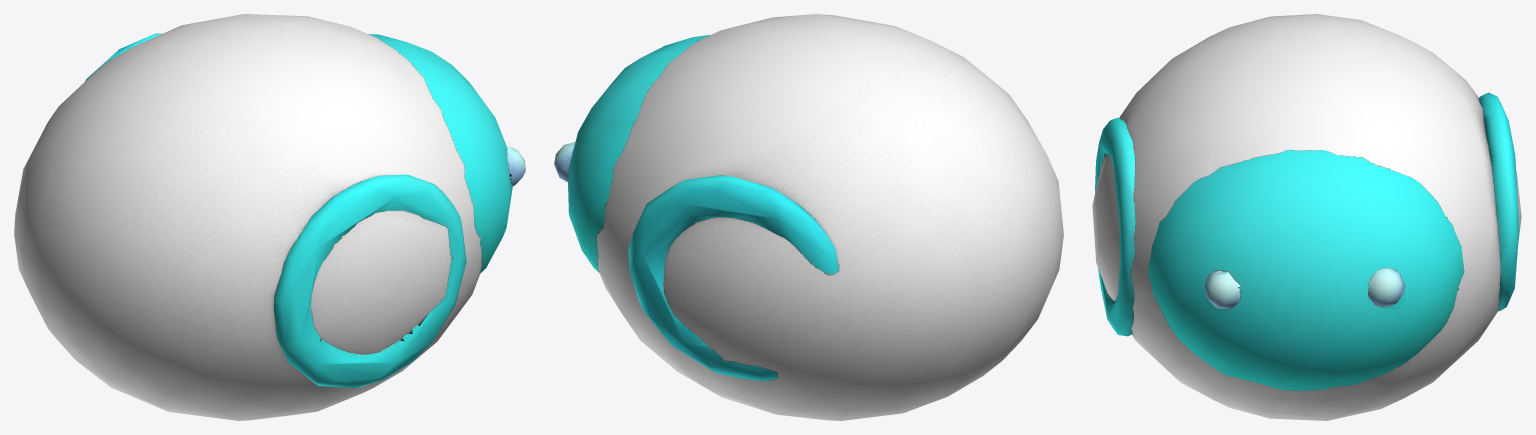
Rendered from guest2.dae.
The picture shows the model from 3 angles, left to right: view 1: azimuth 30°, elevation 25°; view 2: azimuth 150°, elevation 25°; view 3: azimuth 270°, elevation 25°; orthographic projection. The views are drawn at different scales.
Visible parts, largest first — view 1: Sphere_003_001; view 2: Sphere_003_001; view 3: Sphere_003_001.
Boxes of the visible parts, <box> form: Sphere_003_001: <box>14,14,525,420</box>; Sphere_003_001: <box>554,14,1063,420</box>; Sphere_003_001: <box>1092,14,1521,420</box>.
Size of the model in its own units: 0.7509 by 0.6392 by 0.58.
Materials: 1 (1 with a texture image).
